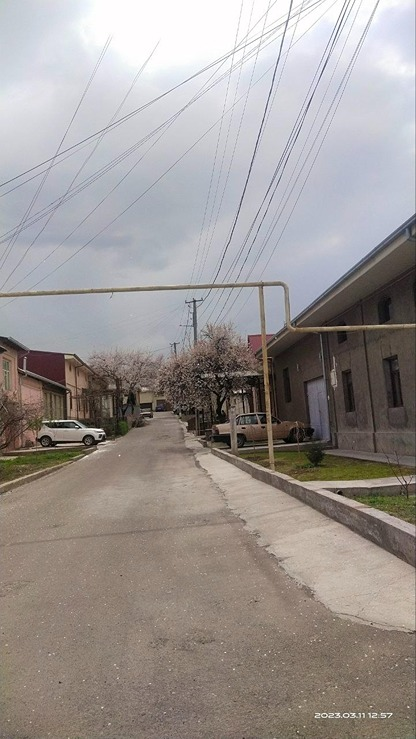car: (224, 403, 325, 457), (36, 414, 106, 451)
tree: (177, 327, 252, 426), (97, 346, 161, 420)
